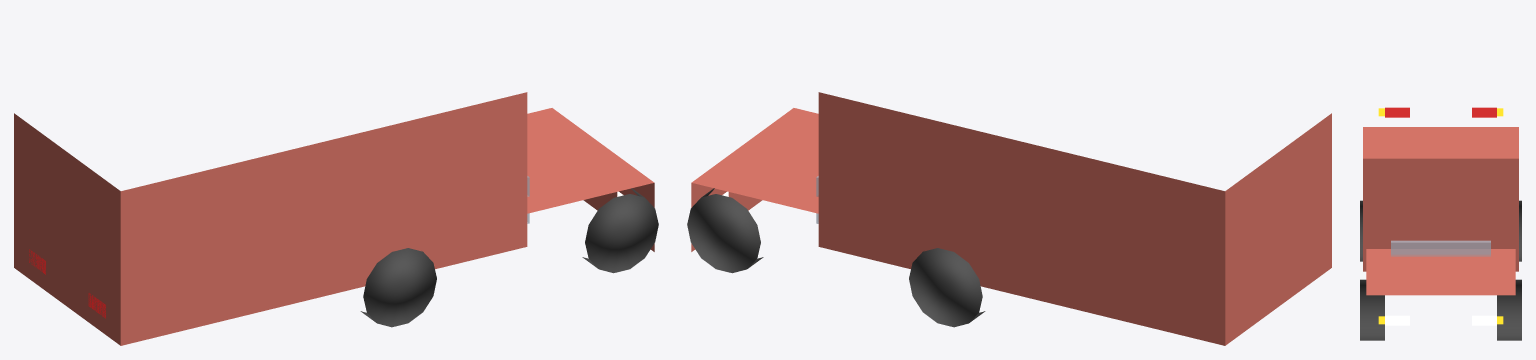
The model's file is truck.gltf.
The picture shows the model from 3 angles, left to right: view 1: azimuth 30°, elevation 25°; view 2: azimuth 150°, elevation 25°; view 3: azimuth 270°, elevation 25°; orthographic projection. The views are drawn at different scales.
Parts seen in each view (by area): view 1: cargo, cab, wheel_FR, wheel_RR; view 2: cargo, cab, wheel_FL, wheel_RL; view 3: cargo, cab, windshield, wheel_FL, wheel_FR, headlight_L, headlight_R, brakelight_L, brakelight_R, wheel_RL, wheel_RR.
Boxes of the visible parts, x1=… form: cargo: x1=14, y1=92, x2=527, y2=345; cab: x1=527, y1=108, x2=654, y2=251; wheel_FR: x1=582, y1=188, x2=658, y2=273; wheel_RR: x1=360, y1=248, x2=436, y2=327; cargo: x1=818, y1=92, x2=1331, y2=345; cab: x1=691, y1=108, x2=818, y2=251; wheel_FL: x1=687, y1=188, x2=763, y2=273; wheel_RL: x1=909, y1=248, x2=985, y2=327; cargo: x1=1363, y1=127, x2=1518, y2=271; cab: x1=1366, y1=249, x2=1515, y2=295; windshield: x1=1391, y1=240, x2=1490, y2=256; wheel_FL: x1=1497, y1=279, x2=1521, y2=340; wheel_FR: x1=1360, y1=279, x2=1384, y2=340; headlight_L: x1=1472, y1=315, x2=1496, y2=325; headlight_R: x1=1385, y1=315, x2=1409, y2=325; brakelight_L: x1=1472, y1=107, x2=1496, y2=117; brakelight_R: x1=1385, y1=107, x2=1409, y2=117; wheel_RL: x1=1519, y1=200, x2=1521, y2=261; wheel_RR: x1=1360, y1=200, x2=1362, y2=261.
Bounding box in the file's own units: 7.25 × 2.59 × 2.6.
